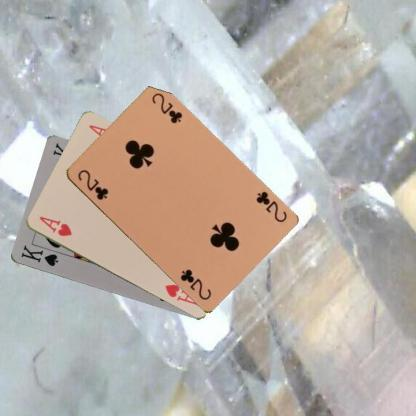2c: (252, 188, 289, 224), (74, 167, 110, 202)
Ah: (36, 214, 72, 238)
Ks: (18, 242, 60, 268)
